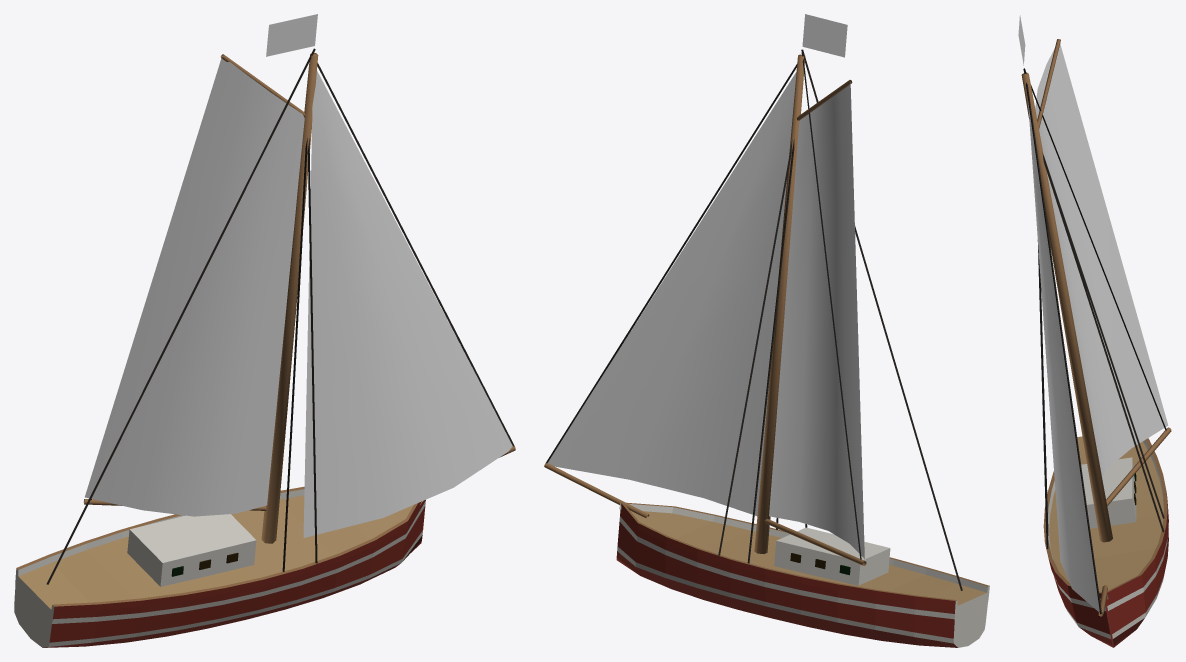
The model's file is hull_sloop_medium_sailing.glb.
3 renders of one model, left to right at view 1: azimuth 30°, elevation 25°; view 2: azimuth 150°, elevation 25°; view 3: azimuth 270°, elevation 25°, orthographic. The views are drawn at different scales.
Parts seen in each view (by area): view 1: hull_sloop_medium_sailing_sail_main, hull_sloop_medium_sailing_sail_jib, hull_sloop_medium_sailing_hull, hull_sloop_medium_sailing_deck, hull_sloop_medium_sailing_mast, hull_sloop_medium_sailing_rigging, hull_sloop_medium_sailing_flag; view 2: hull_sloop_medium_sailing_sail_jib, hull_sloop_medium_sailing_sail_main, hull_sloop_medium_sailing_hull, hull_sloop_medium_sailing_mast, hull_sloop_medium_sailing_rigging, hull_sloop_medium_sailing_deck, hull_sloop_medium_sailing_flag, hull_sloop_medium_sailing_boom; view 3: hull_sloop_medium_sailing_sail_main, hull_sloop_medium_sailing_hull, hull_sloop_medium_sailing_sail_jib, hull_sloop_medium_sailing_mast, hull_sloop_medium_sailing_rigging, hull_sloop_medium_sailing_deck, hull_sloop_medium_sailing_boom.
Boxes of the visible parts, x1,y1,x2,y2 form: hull_sloop_medium_sailing_sail_main: (85, 56, 304, 516); hull_sloop_medium_sailing_sail_jib: (303, 71, 512, 537); hull_sloop_medium_sailing_hull: (14, 486, 425, 647); hull_sloop_medium_sailing_deck: (127, 514, 256, 586); hull_sloop_medium_sailing_mast: (220, 52, 515, 543); hull_sloop_medium_sailing_rigging: (46, 48, 514, 584); hull_sloop_medium_sailing_flag: (266, 14, 317, 56); hull_sloop_medium_sailing_sail_jib: (548, 72, 796, 519); hull_sloop_medium_sailing_sail_main: (769, 82, 864, 558); hull_sloop_medium_sailing_hull: (616, 502, 989, 647); hull_sloop_medium_sailing_mast: (544, 54, 852, 553); hull_sloop_medium_sailing_rigging: (545, 49, 962, 590); hull_sloop_medium_sailing_deck: (774, 527, 890, 585); hull_sloop_medium_sailing_flag: (802, 14, 847, 57); hull_sloop_medium_sailing_boom: (764, 519, 866, 565); hull_sloop_medium_sailing_sail_main: (1035, 44, 1168, 477); hull_sloop_medium_sailing_hull: (1043, 436, 1168, 647); hull_sloop_medium_sailing_sail_jib: (1028, 101, 1099, 612); hull_sloop_medium_sailing_mast: (1021, 39, 1112, 616); hull_sloop_medium_sailing_rigging: (1023, 68, 1166, 614); hull_sloop_medium_sailing_deck: (1081, 457, 1136, 528); hull_sloop_medium_sailing_boom: (1106, 427, 1171, 505).
Bounding box in the file's own units: 15.89 × 19.74 × 4.91.
